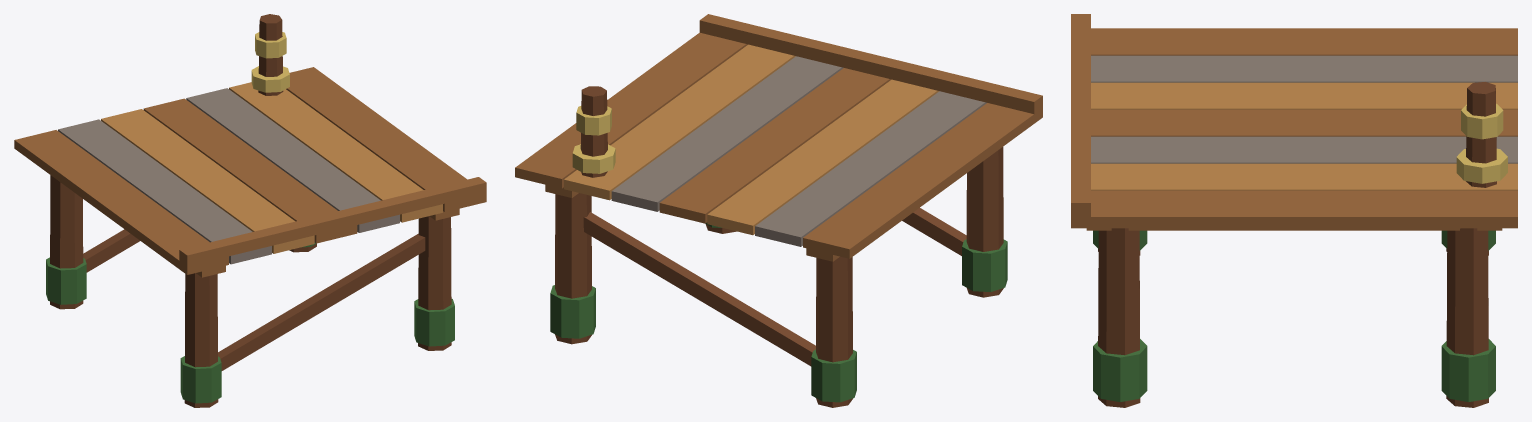
File: dock_straight 2.glb
3 views of the same model, side by side, from view 1: azimuth 30°, elevation 25°; view 2: azimuth 150°, elevation 25°; view 3: azimuth 270°, elevation 25° (orthographic). The views are drawn at different scales.
Parts seen in each view (by area): view 1: Deck_0.002, Deck_3.001, Deck_2.002, Deck_4.001, Deck_1.002, Deck_6.001, Deck_5.001, Kerb, Pile_Brace_0, Pile_0, Pile_2, Pile_1 (+7 smaller); view 2: Deck_0.002, Deck_4.001, Deck_3.001, Deck_2.002, Deck_1.002, Deck_5.001, Deck_6.001, Kerb, Pile_Brace_1, Pile_1, Pile_3, Pile_0 (+7 smaller); view 3: Deck_6.001, Deck_0.002, Deck_1.002, Deck_2.002, Deck_5.001, Deck_4.001, Deck_3.001, Pile_3, Pile_2, Kerb, Pile_Weed_3, Pile_Weed_2 (+4 smaller).
Boxes of the visible parts, x1=… form: Deck_0.002: x1=14, y1=130, x2=228, y2=274; Deck_3.001: x1=143, y1=98, x2=357, y2=243; Deck_2.002: x1=101, y1=109, x2=314, y2=253; Deck_4.001: x1=186, y1=88, x2=399, y2=232; Deck_1.002: x1=58, y1=119, x2=271, y2=264; Deck_6.001: x1=286, y1=67, x2=486, y2=211; Deck_5.001: x1=229, y1=82, x2=442, y2=222; Kerb: x1=179, y1=177, x2=486, y2=266; Pile_Brace_0: x1=218, y1=233, x2=425, y2=370; Pile_0: x1=184, y1=273, x2=218, y2=407; Pile_2: x1=418, y1=216, x2=451, y2=350; Pile_1: x1=50, y1=175, x2=83, y2=309; Deck_0.002: x1=803, y1=103, x2=1042, y2=258; Deck_4.001: x1=611, y1=56, x2=843, y2=211; Deck_3.001: x1=659, y1=68, x2=891, y2=223; Deck_2.002: x1=707, y1=79, x2=939, y2=235; Deck_1.002: x1=755, y1=91, x2=986, y2=246; Deck_5.001: x1=564, y1=44, x2=795, y2=200; Deck_6.001: x1=515, y1=32, x2=747, y2=188; Kerb: x1=699, y1=14, x2=1042, y2=113; Pile_Brace_1: x1=583, y1=212, x2=815, y2=366; Pile_1: x1=816, y1=256, x2=852, y2=407; Pile_3: x1=555, y1=193, x2=591, y2=344; Pile_0: x1=966, y1=147, x2=1003, y2=297; Deck_6.001: x1=1071, y1=190, x2=1517, y2=228; Deck_0.002: x1=1091, y1=28, x2=1517, y2=55; Deck_1.002: x1=1091, y1=55, x2=1517, y2=82; Deck_2.002: x1=1091, y1=82, x2=1517, y2=109; Deck_5.001: x1=1091, y1=163, x2=1517, y2=190; Deck_4.001: x1=1091, y1=136, x2=1517, y2=163; Deck_3.001: x1=1091, y1=109, x2=1517, y2=136; Pile_3: x1=1446, y1=228, x2=1488, y2=407; Pile_2: x1=1098, y1=228, x2=1140, y2=407; Kerb: x1=1071, y1=14, x2=1090, y2=216; Pile_Weed_3: x1=1441, y1=339, x2=1495, y2=401; Pile_Weed_2: x1=1093, y1=339, x2=1147, y2=401.
Size of the model in its own units: 2 by 1.46 by 2.
